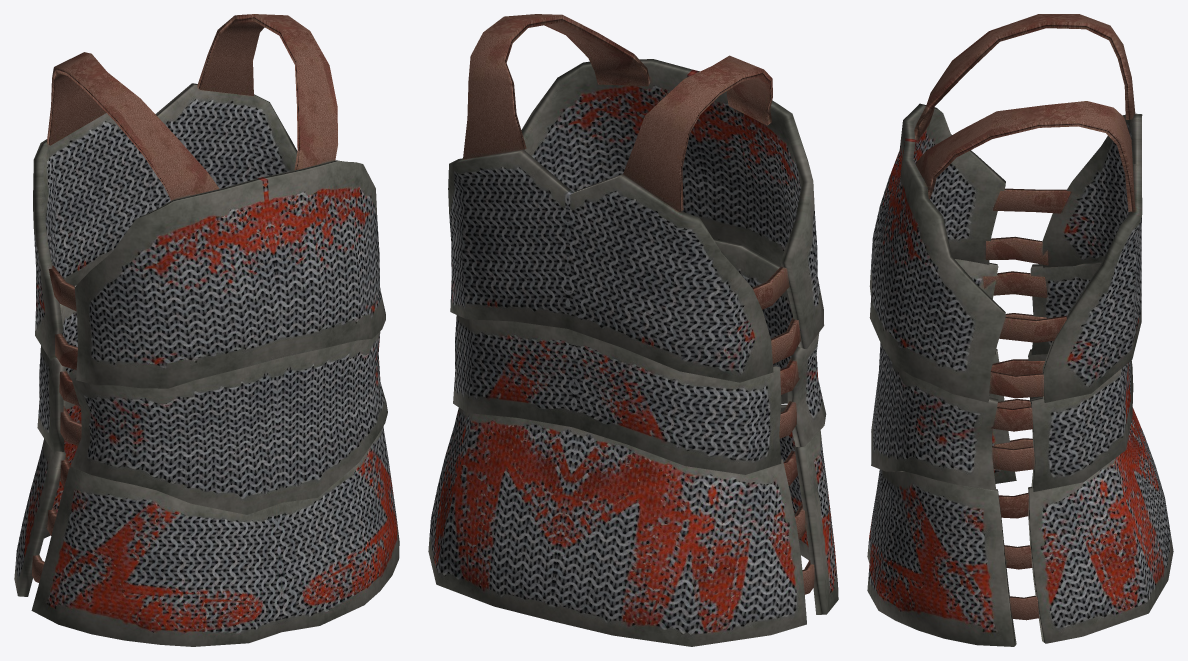
File: ring_mail.glb
3 views of the same model, side by side, from view 1: azimuth 30°, elevation 25°; view 2: azimuth 150°, elevation 25°; view 3: azimuth 270°, elevation 25° (orthographic). The views are drawn at different scales.
Visible parts, largest first — view 1: ring_mail_export; view 2: ring_mail_export; view 3: ring_mail_export.
Boxes of the visible parts, x1=… form: ring_mail_export: x1=14, y1=14, x2=399, y2=646; ring_mail_export: x1=428, y1=14, x2=838, y2=646; ring_mail_export: x1=867, y1=14, x2=1173, y2=646.
Size of the model in its own units: 0.3004 by 0.4182 by 0.2263.
1 material, 1 textured.
